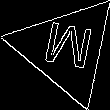M_S: (37, 20, 95, 78)
